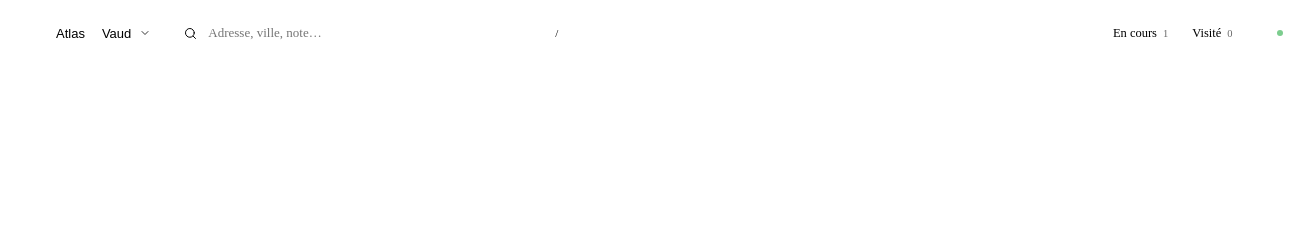
Test: TopBar profile chooser › shows deletion confirmation in the chooser row
Step 1. Click the button with aria-label "choisir un profil" → (89, 33), box [16,16,161,50]
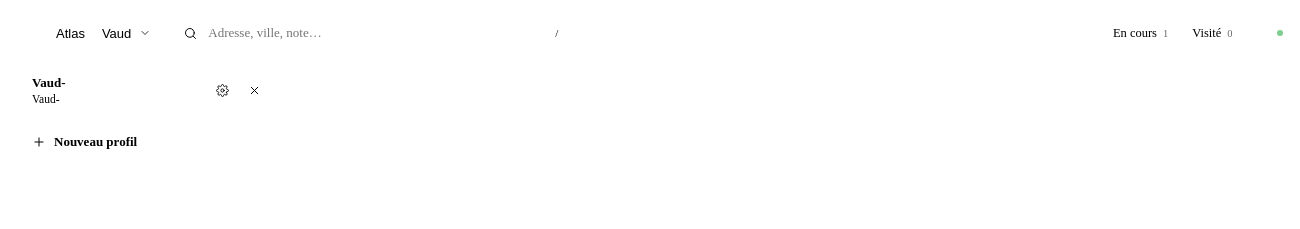
Step 2. Click the button named "supprimer vaud-" → (254, 90), box [240,76,268,104]
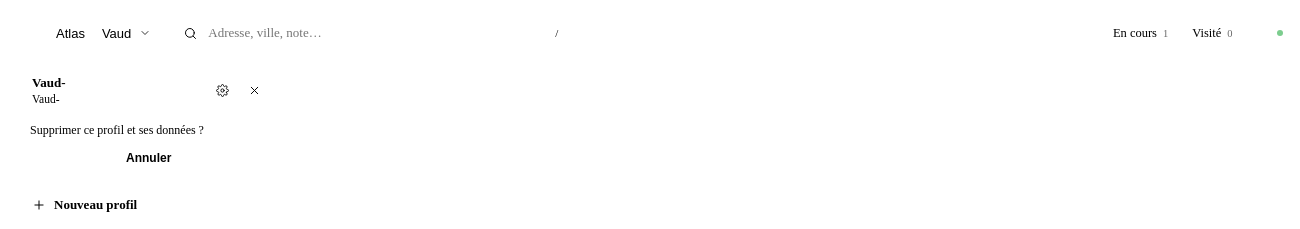
Expected: the text "Supprimer ce profil et ses données ? Supprimer Annuler" is shown, [30,123,204,171]
